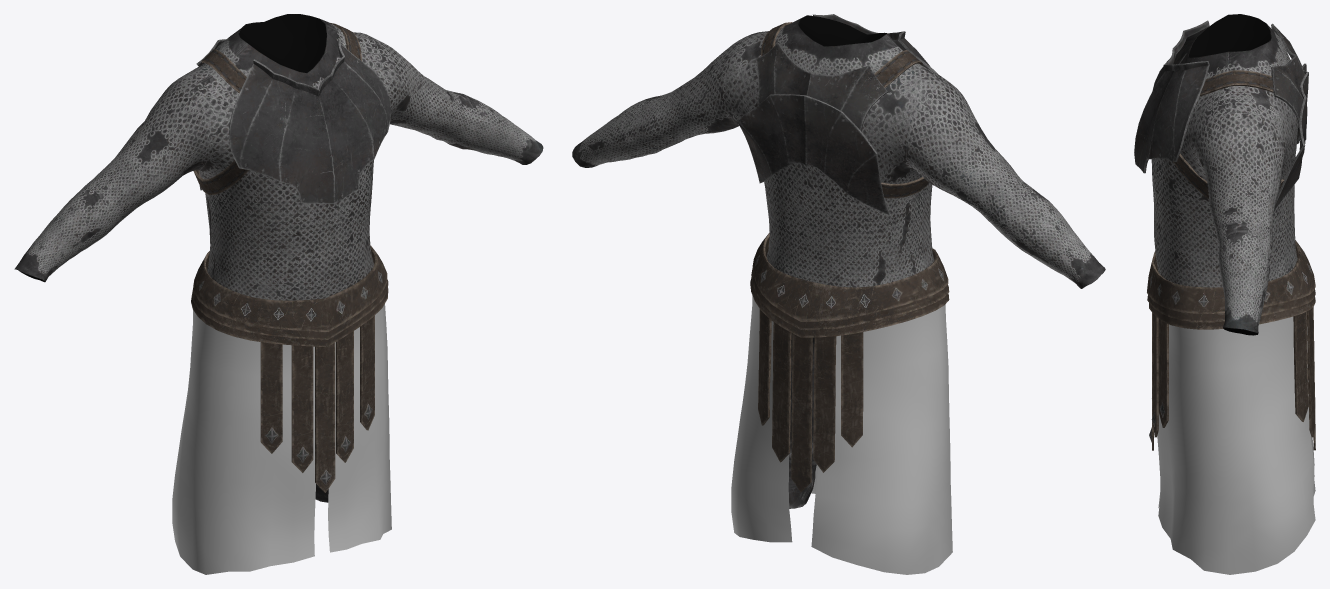
File: sk_uruk_mordor_chainmail_medium_a2.fbx
The picture shows the model from 3 angles, left to right: view 1: azimuth 30°, elevation 25°; view 2: azimuth 150°, elevation 25°; view 3: azimuth 270°, elevation 25°; orthographic projection. The views are drawn at different scales.
Parts seen in each view (by area): view 1: sk_uruk_mordor_chainmail_medium_a2.0, sk_uruk_mordor_chainmail_medium_a2.2, sk_uruk_mordor_chainmail_medium_a2.1, sk_uruk_mordor_chainmail_medium_a2.3; view 2: sk_uruk_mordor_chainmail_medium_a2.0, sk_uruk_mordor_chainmail_medium_a2.2, sk_uruk_mordor_chainmail_medium_a2.1, sk_uruk_mordor_chainmail_medium_a2.3; view 3: sk_uruk_mordor_chainmail_medium_a2.2, sk_uruk_mordor_chainmail_medium_a2.0, sk_uruk_mordor_chainmail_medium_a2.1, sk_uruk_mordor_chainmail_medium_a2.3.
Part boxes in pixels (box(x1,y1,x2,y2)): sk_uruk_mordor_chainmail_medium_a2.0: box(14, 14, 543, 502); sk_uruk_mordor_chainmail_medium_a2.2: box(172, 304, 391, 574); sk_uruk_mordor_chainmail_medium_a2.1: box(191, 23, 388, 492); sk_uruk_mordor_chainmail_medium_a2.3: box(196, 38, 391, 203); sk_uruk_mordor_chainmail_medium_a2.0: box(572, 15, 1105, 508); sk_uruk_mordor_chainmail_medium_a2.2: box(731, 295, 952, 574); sk_uruk_mordor_chainmail_medium_a2.1: box(750, 22, 949, 492); sk_uruk_mordor_chainmail_medium_a2.3: box(736, 14, 937, 214); sk_uruk_mordor_chainmail_medium_a2.2: box(1157, 316, 1315, 574); sk_uruk_mordor_chainmail_medium_a2.0: box(1151, 14, 1298, 335); sk_uruk_mordor_chainmail_medium_a2.1: box(1147, 70, 1315, 450); sk_uruk_mordor_chainmail_medium_a2.3: box(1134, 20, 1308, 209).
Bounding box in the file's own units: 1.37 × 0.4273 × 1.29.
